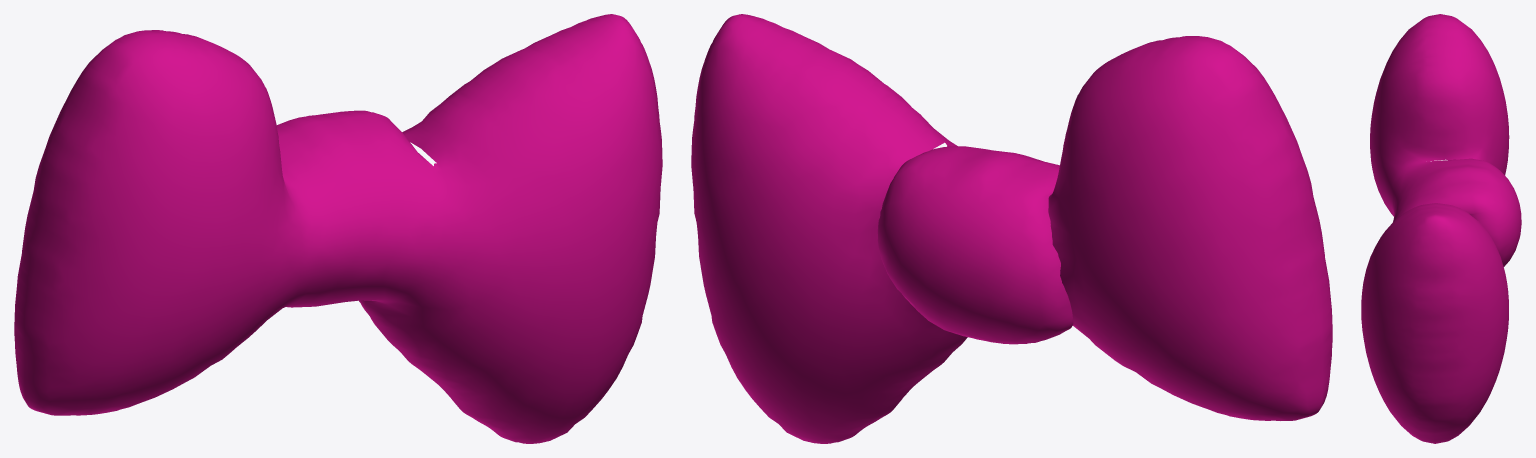
Rendered from mm_project (1).glb.
3 renders of one model, left to right at view 1: azimuth 30°, elevation 25°; view 2: azimuth 150°, elevation 25°; view 3: azimuth 270°, elevation 25°, orthographic. The views are drawn at different scales.
Parts seen in each view (by area): view 1: 20a09562-62d9-44d6-92f5-9687de598ba0; view 2: 20a09562-62d9-44d6-92f5-9687de598ba0; view 3: 20a09562-62d9-44d6-92f5-9687de598ba0.
Boxes of the visible parts, x1=… form: 20a09562-62d9-44d6-92f5-9687de598ba0: x1=14, y1=14, x2=662, y2=443; 20a09562-62d9-44d6-92f5-9687de598ba0: x1=691, y1=14, x2=1332, y2=443; 20a09562-62d9-44d6-92f5-9687de598ba0: x1=1361, y1=14, x2=1521, y2=443.
Bounding box in the file's own units: 4.54 × 3.43 × 1.63.
